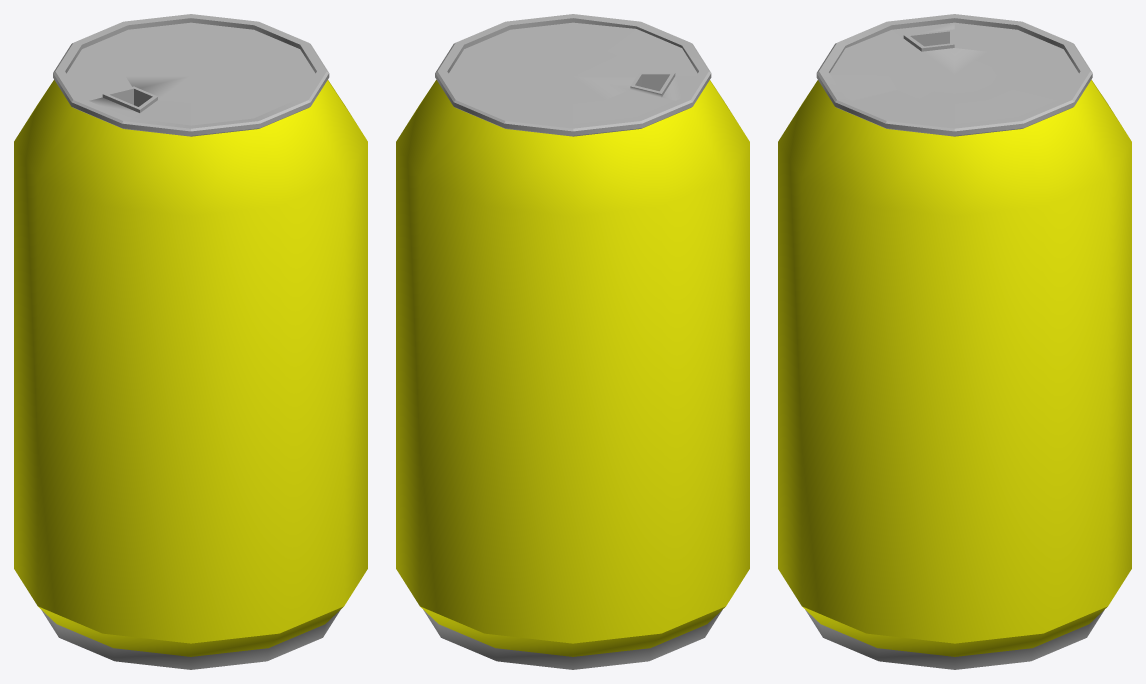
The model's file is ColdDrinkCane.fbx.
The picture shows the model from 3 angles, left to right: view 1: azimuth 30°, elevation 25°; view 2: azimuth 150°, elevation 25°; view 3: azimuth 270°, elevation 25°; orthographic projection.
Parts seen in each view (by area): view 1: ColdDrinkCane; view 2: ColdDrinkCane; view 3: ColdDrinkCane.
Boxes of the visible parts, box(x1,y1,x2,y2) form: ColdDrinkCane: box(14, 14, 367, 669); ColdDrinkCane: box(396, 14, 749, 669); ColdDrinkCane: box(778, 14, 1131, 669).
Size of the model in its own units: 8.53 by 8.53 by 14.21.
